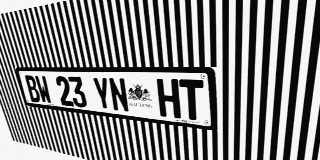2: (55, 76, 74, 107)
3: (68, 76, 88, 108)
B: (24, 75, 42, 103)
H: (156, 79, 181, 119)
N: (108, 77, 130, 113)
T: (179, 79, 205, 121)
W: (34, 76, 53, 104)
Y: (92, 77, 113, 111)
